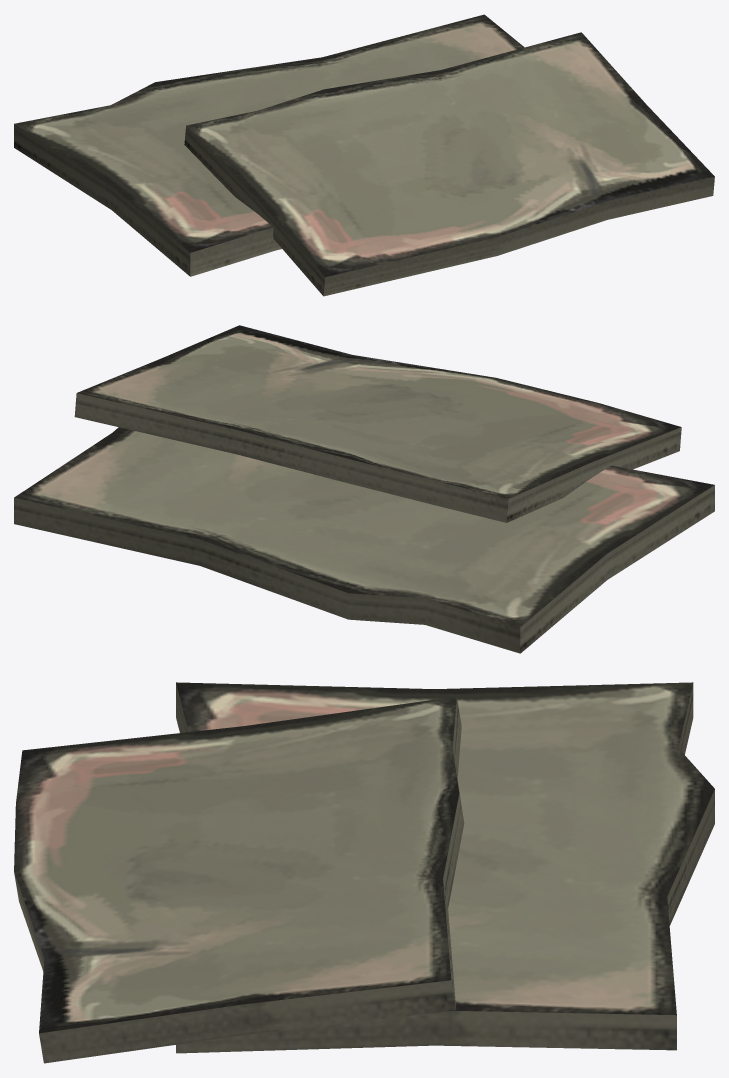
Rendered from GAM_LootMetal.FBX.
The picture shows the model from 3 angles, top to bottom: view 1: azimuth 30°, elevation 25°; view 2: azimuth 150°, elevation 25°; view 3: azimuth 270°, elevation 25°; orthographic projection. The views are drawn at different scales.
Visible parts, largest first — view 1: GAM_LootMetal; view 2: GAM_LootMetal; view 3: GAM_LootMetal.
Boxes of the visible parts, x1,y1,x2,y2 form: GAM_LootMetal: [14, 14, 714, 296]; GAM_LootMetal: [14, 325, 714, 653]; GAM_LootMetal: [14, 682, 714, 1063].
Size of the model in its own units: 63.5 by 7.92 by 54.19.
1 material, 1 textured.
